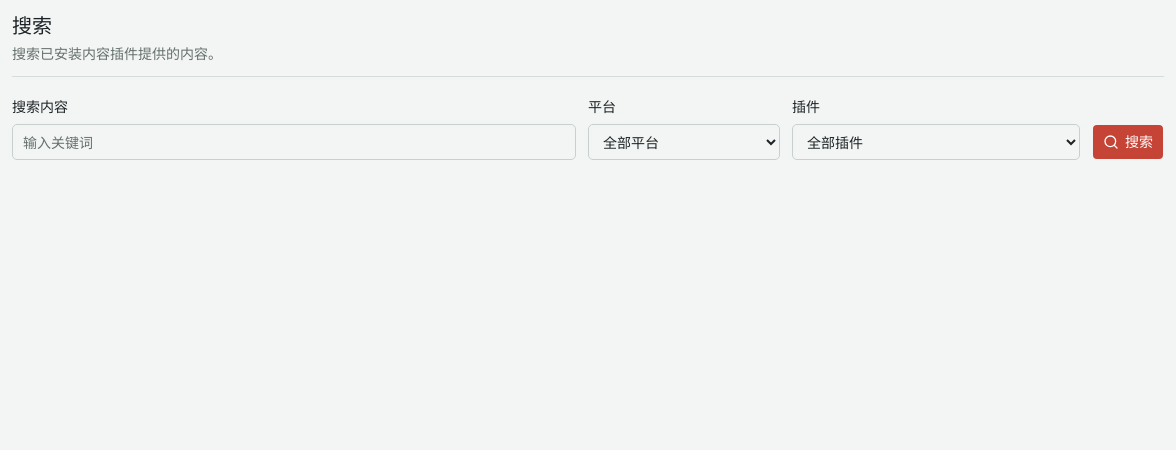
it: content capability empty workflows › shows retryable search errors without hiding the query
Type "保留查询" into the search field labelled "搜索内容" at point(294, 142), box [12,124,576,160]
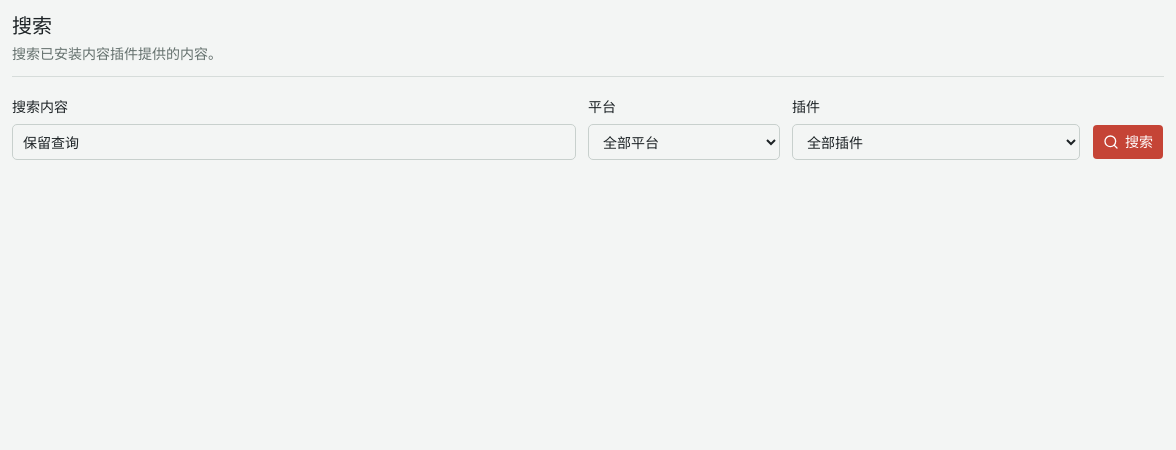
Submit the form, box [12,97,1164,160]
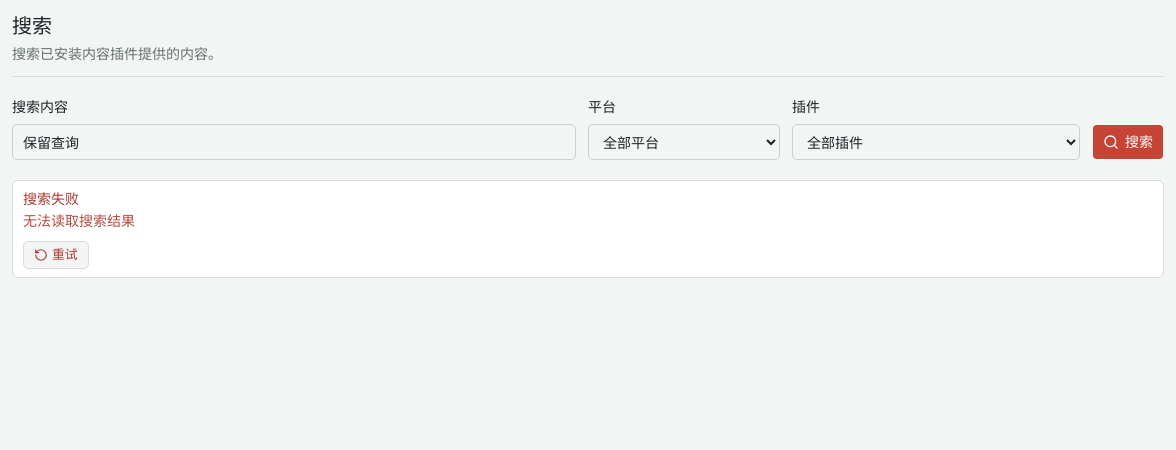
expect the message "搜索失败 无法读取搜索结果 重试" is shown: met, box [12,180,1164,278]
Click the button with aria-label "重试" at point(56, 255), box [23,241,89,269]
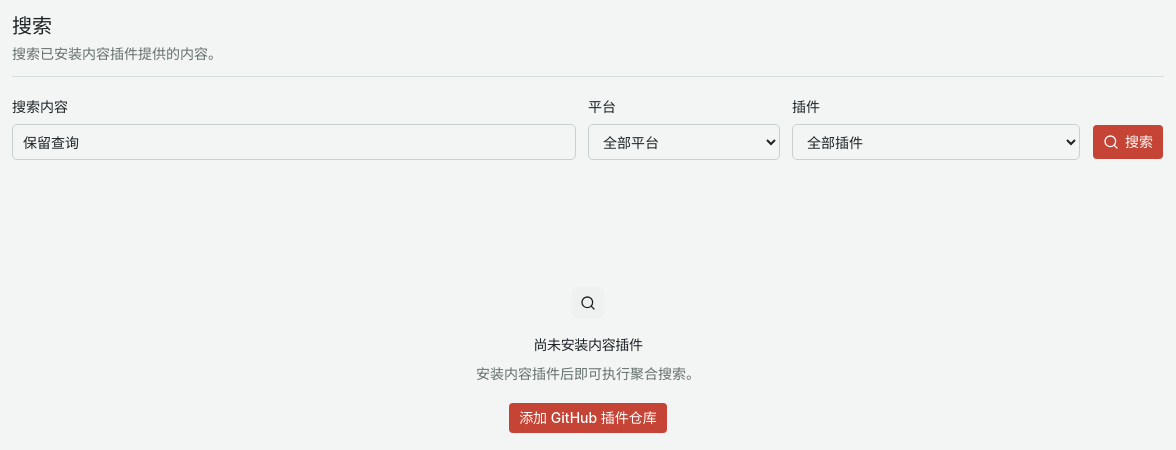
expect the text "尚未安装内容插件" is shown: met, box [533,335,643,355]
